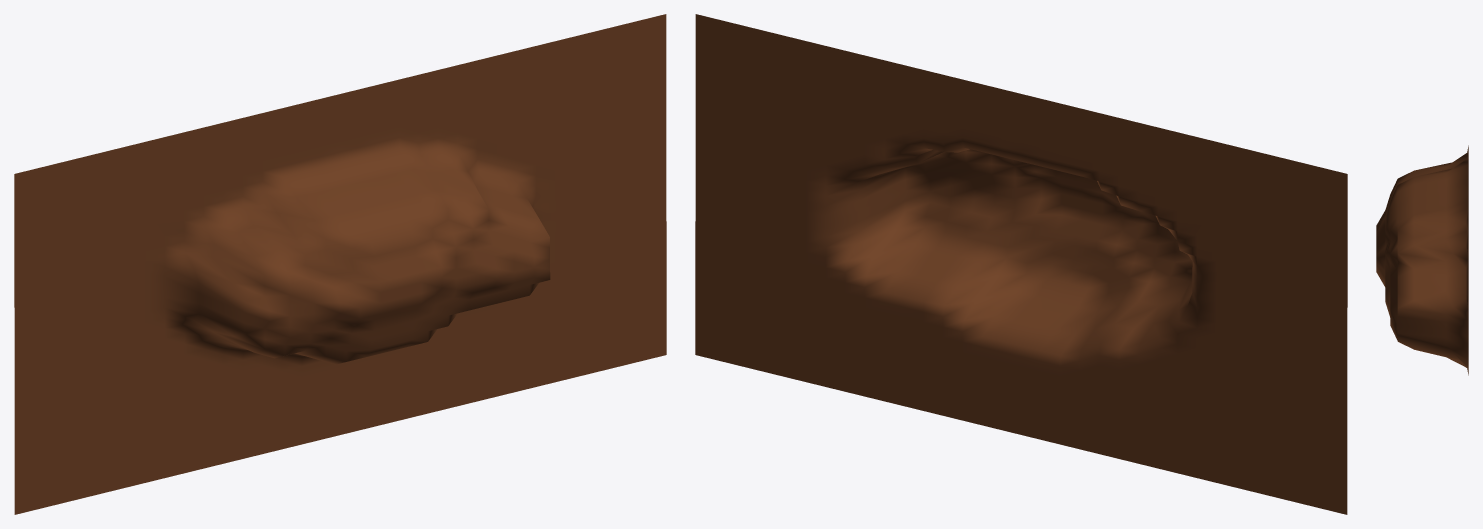
The model's file is RockFormationA.FBX.
3 renders of one model, left to right at view 1: azimuth 30°, elevation 25°; view 2: azimuth 150°, elevation 25°; view 3: azimuth 270°, elevation 25°, orthographic. The views are drawn at different scales.
Visible parts, largest first — view 1: RockFormationA; view 2: RockFormationA; view 3: RockFormationA.
Boxes of the visible parts, x1,y1,x2,y2 form: RockFormationA: (14, 14, 666, 514); RockFormationA: (695, 14, 1347, 514); RockFormationA: (1376, 145, 1468, 375).
Size of the model in its own units: 16011 by 8022 by 2579.
